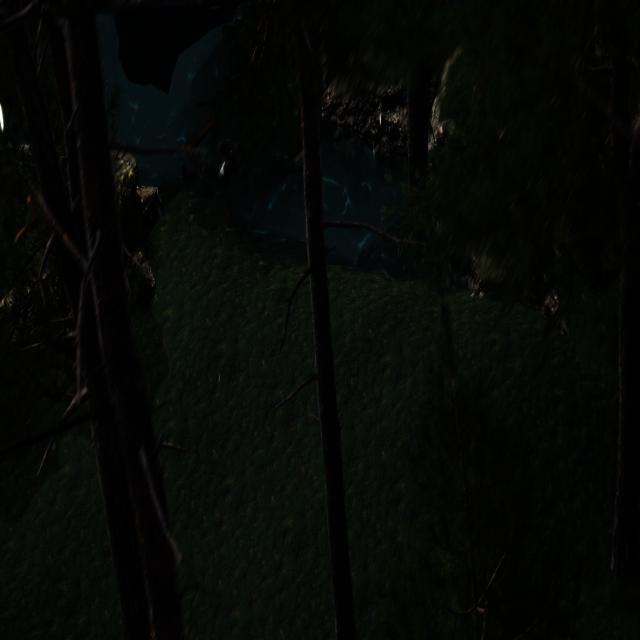Human: (182, 135, 236, 196)
